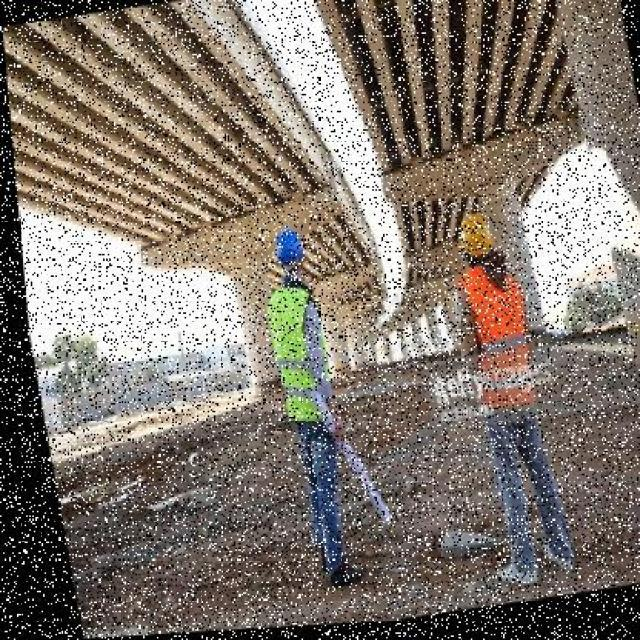helmet: (441, 208, 495, 269), (260, 217, 308, 277)
vest: (442, 263, 553, 449), (251, 278, 339, 436)
